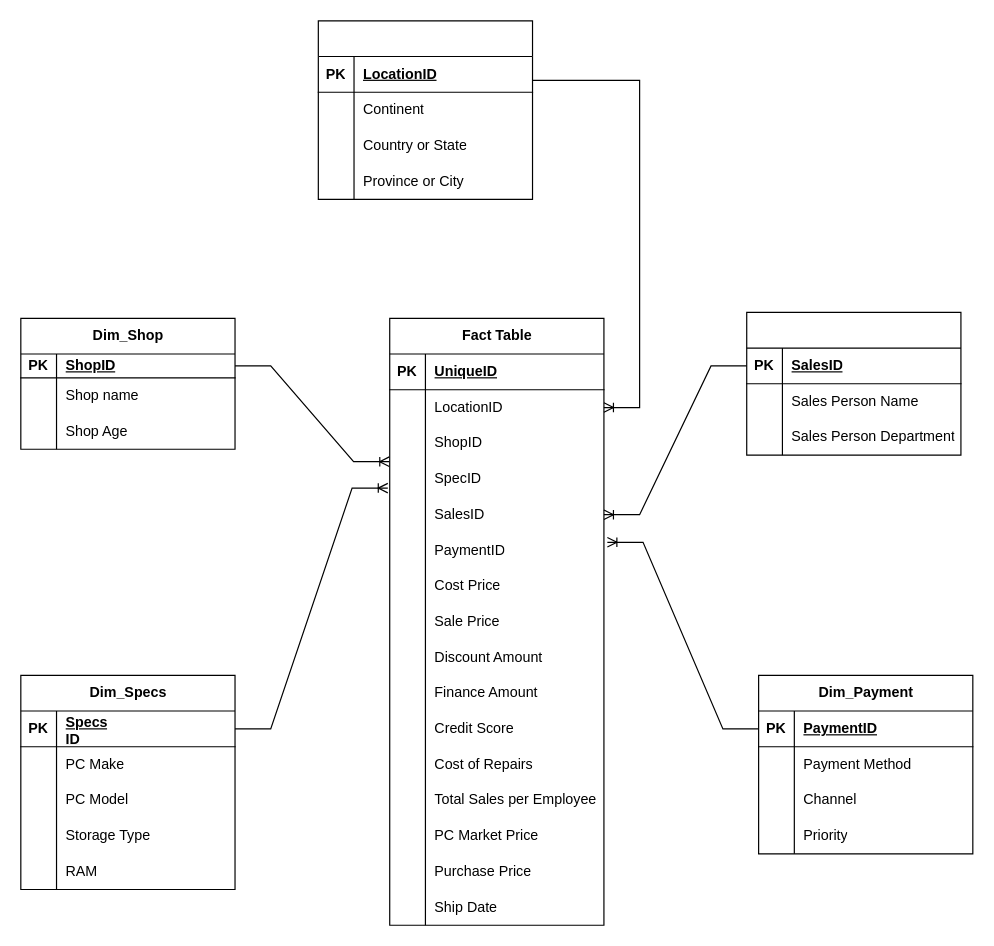
This 994x946 diagram has some shape labels left out. Each missing label, with the box of its shape:
Dim_Location: (317, 20, 533, 199)
Dim_Sales: (746, 311, 961, 455)
